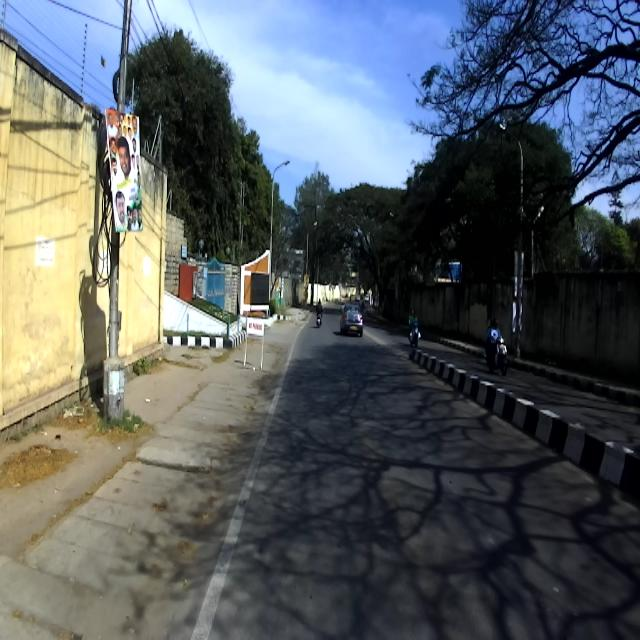electric pole ahead at: (100, 2, 145, 432)
